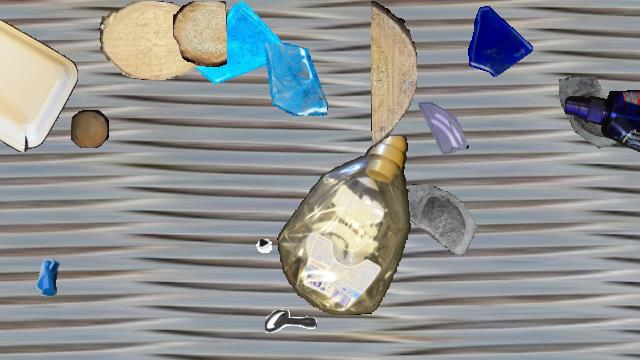glass: (196, 1, 286, 91), (557, 76, 640, 162), (405, 182, 489, 266), (459, 1, 535, 77), (258, 43, 330, 115), (413, 101, 471, 159)
metal: (18, 246, 76, 304), (219, 199, 277, 257), (265, 297, 317, 349)
plastic: (277, 136, 413, 314), (0, 10, 78, 152), (565, 90, 640, 172)
wood: (99, 1, 205, 79), (371, 1, 417, 147), (173, 1, 227, 67), (71, 110, 109, 148)
